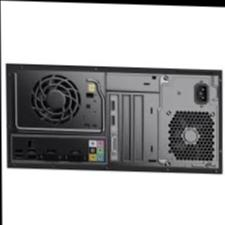pc: (0, 59, 225, 176)
